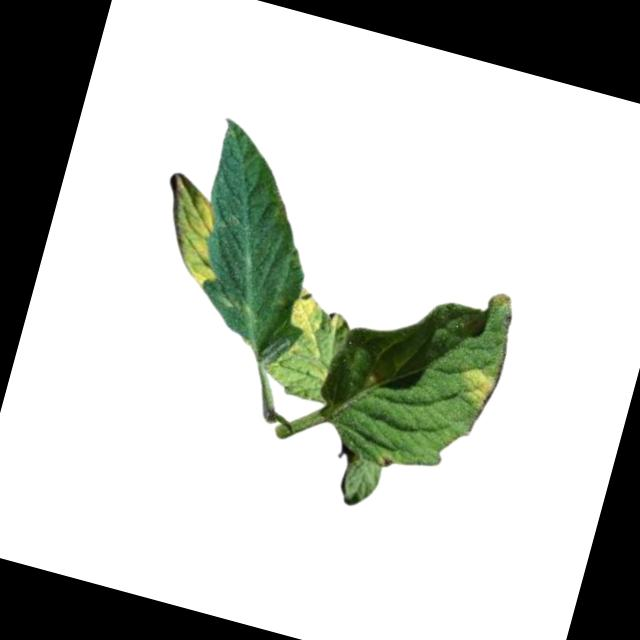Leaf_Mold: (145, 172, 234, 289), (287, 287, 351, 342), (454, 363, 503, 412)
